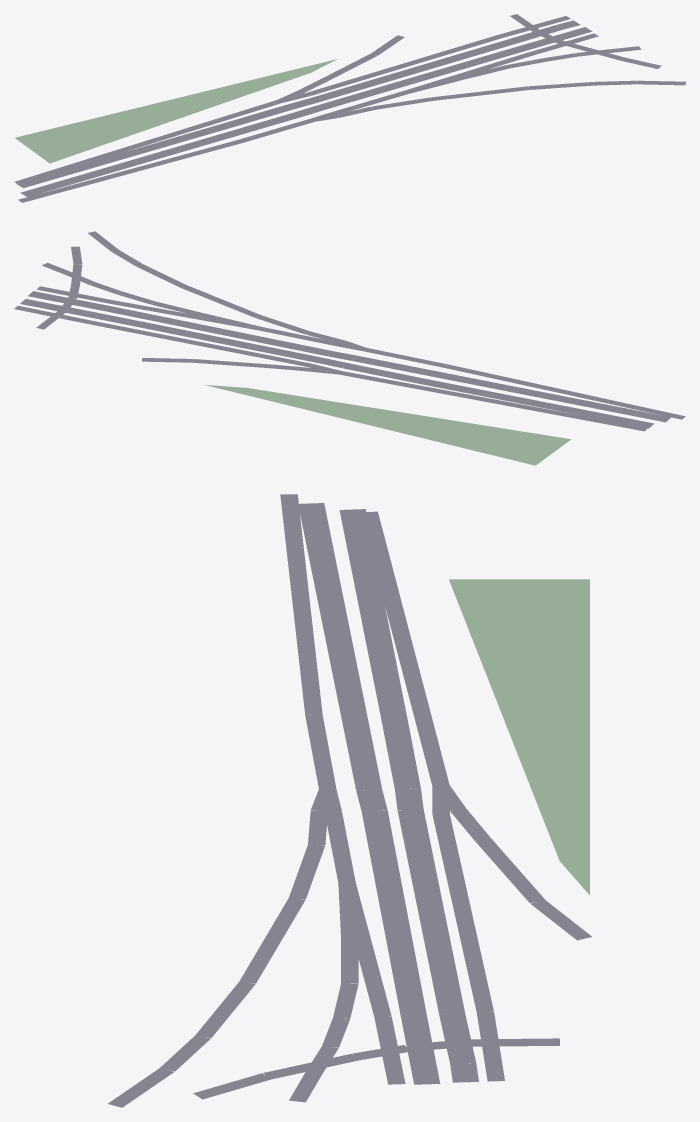
The model's file is 127_81_mid.glb.
3 renders of one model, top to bottom at view 1: azimuth 30°, elevation 25°; view 2: azimuth 150°, elevation 25°; view 3: azimuth 270°, elevation 25°, orthographic. The views are drawn at different scales.
Bounding box in the file's own units: 577 × 8.13 × 194.
